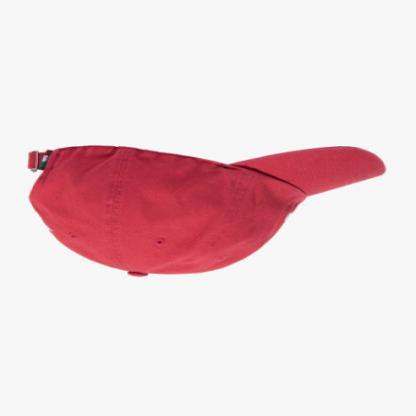cap: (13, 125, 394, 293)
